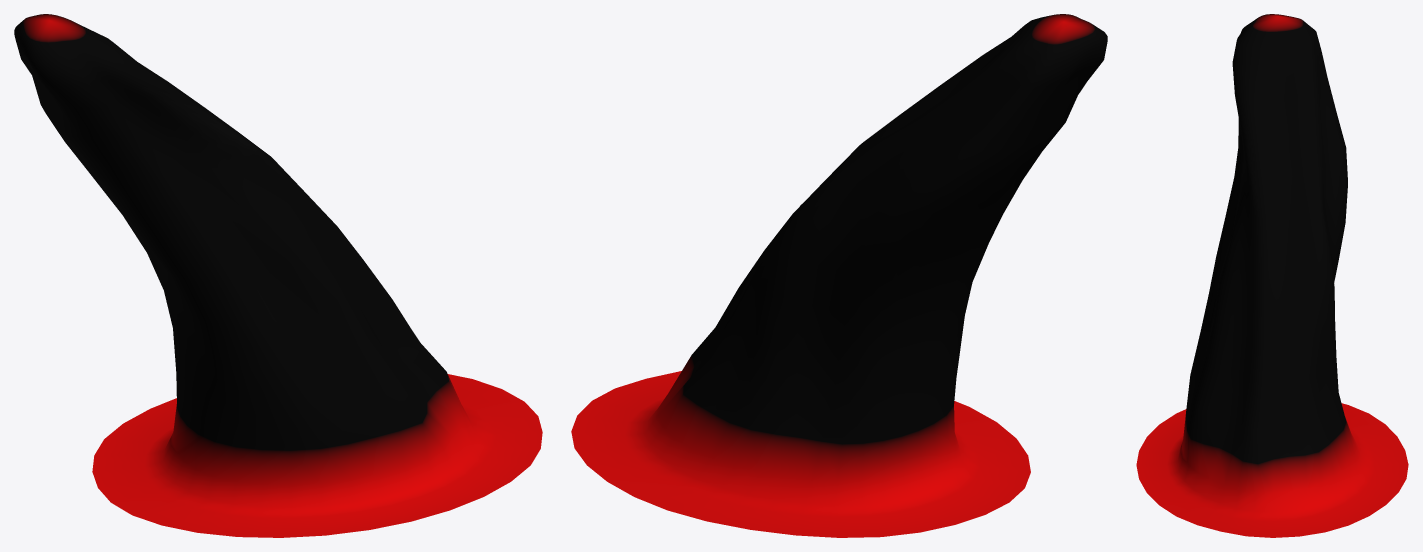
File: GroundObject02C.fbx
3 views of the same model, side by side, from view 1: azimuth 30°, elevation 25°; view 2: azimuth 150°, elevation 25°; view 3: azimuth 270°, elevation 25° (orthographic). The views are drawn at different scales.
Parts seen in each view (by area): view 1: GroundObject02C; view 2: GroundObject02C; view 3: GroundObject02C.
Boxes of the visible parts, x1,y1,x2,y2 form: GroundObject02C: (14,14,542,537); GroundObject02C: (571,14,1107,537); GroundObject02C: (1136,14,1408,537).
Size of the model in its own units: 2.13 by 2 by 1.39.
